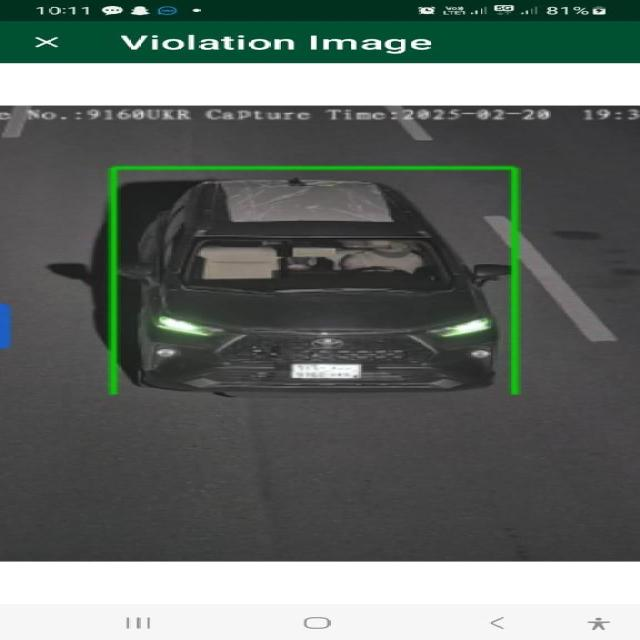person_without_seatbelt: (339, 241, 433, 284)
